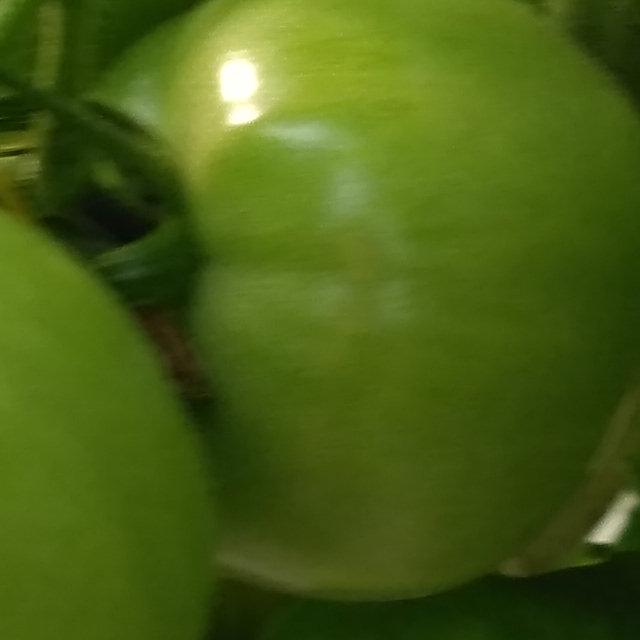tomato: (0, 0, 520, 640)
